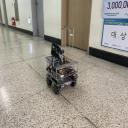cart: (44, 56, 78, 94)
